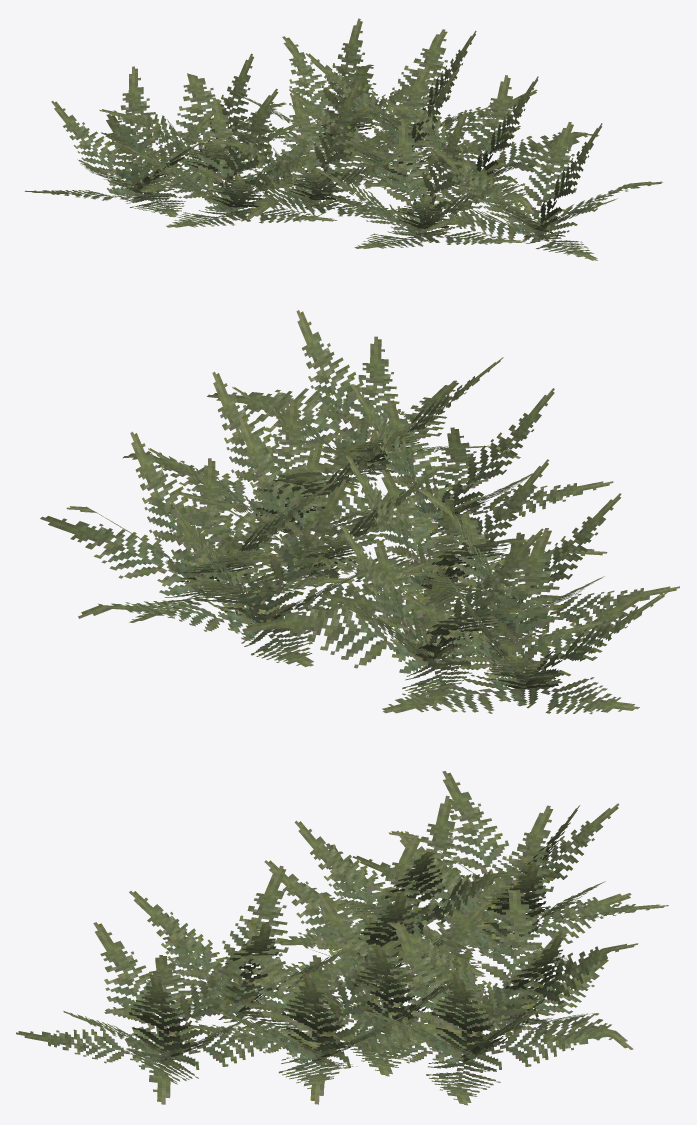
The model's file is fern-grass.lod2.glb.
The picture shows the model from 3 angles, top to bottom: view 1: azimuth 30°, elevation 25°; view 2: azimuth 150°, elevation 25°; view 3: azimuth 270°, elevation 25°; orthographic projection. The views are drawn at different scales.
Parts seen in each view (by area): view 1: Object_2; view 2: Object_2; view 3: Object_2.
Boxes of the visible parts, x1=… form: Object_2: x1=24, y1=18, x2=662, y2=260; Object_2: x1=40, y1=310, x2=679, y2=714; Object_2: x1=16, y1=771, x2=668, y2=1105.
Size of the model in its own units: 3.63 by 0.8 by 3.57.
Materials: 1 (1 with a texture image).
